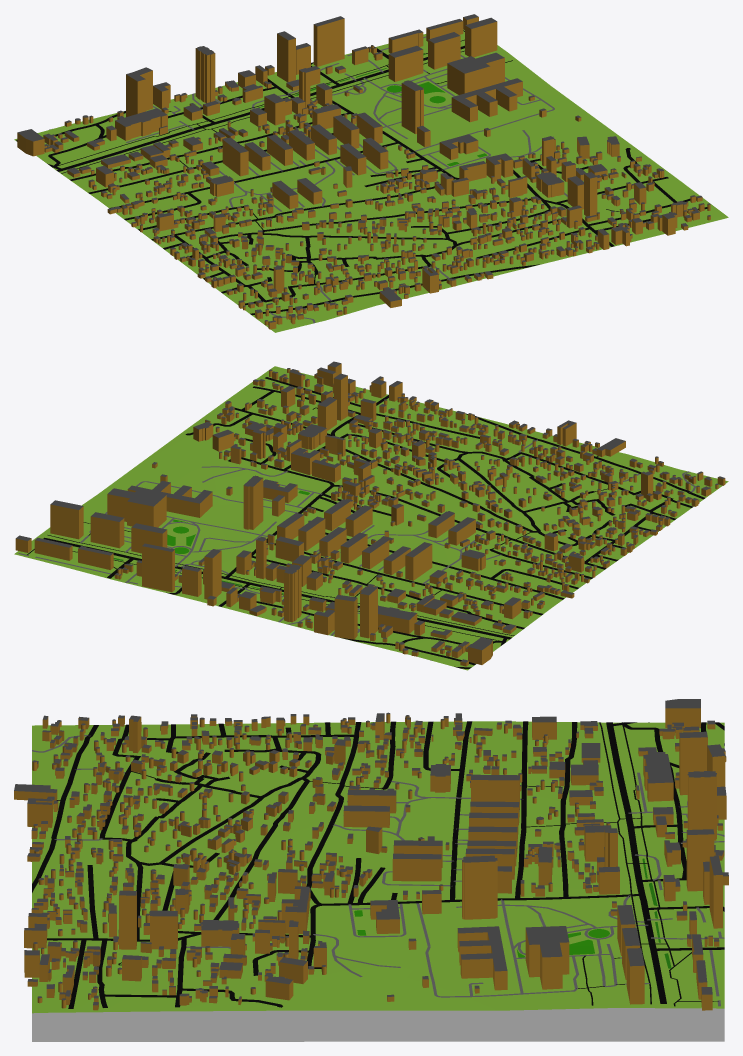
The model's file is tile_11_03.glb.
The picture shows the model from 3 angles, top to bottom: view 1: azimuth 30°, elevation 25°; view 2: azimuth 150°, elevation 25°; view 3: azimuth 270°, elevation 25°; orthographic projection. The views are drawn at different scales.
Visible parts, largest first — view 1: Ub_small.osm_buildings_11_03, Terrain_11_03, Ub_small.osm_roads_residential_11_03, Ub_small.osm_roads_service_11_03, Ub_small.osm_roads_trunk_11_03, Ub_small.osm_paths_footway_11_03; view 2: Ub_small.osm_buildings_11_03, Terrain_11_03, Ub_small.osm_roads_residential_11_03, Ub_small.osm_roads_service_11_03, Ub_small.osm_roads_trunk_11_03, Ub_small.osm_paths_footway_11_03; view 3: Terrain_11_03, Ub_small.osm_buildings_11_03, Ub_small.osm_roads_residential_11_03, Ub_small.osm_roads_service_11_03, Ub_small.osm_roads_trunk_11_03, Ub_small.osm_paths_footway_11_03, Ub_small.osm_vegetation_11_03.
Boxes of the visible parts, x1,y1,x2,y2 form: Ub_small.osm_buildings_11_03: (17, 14, 710, 329); Terrain_11_03: (14, 29, 728, 332); Ub_small.osm_roads_residential_11_03: (48, 62, 707, 315); Ub_small.osm_roads_service_11_03: (42, 36, 567, 323); Ub_small.osm_roads_trunk_11_03: (56, 45, 464, 171); Ub_small.osm_paths_footway_11_03: (52, 30, 619, 284); Ub_small.osm_buildings_11_03: (15, 361, 725, 666); Terrain_11_03: (14, 366, 728, 670); Ub_small.osm_roads_residential_11_03: (166, 377, 704, 665); Ub_small.osm_roads_service_11_03: (18, 439, 695, 635); Ub_small.osm_roads_trunk_11_03: (43, 537, 511, 639); Ub_small.osm_paths_footway_11_03: (27, 407, 607, 642); Terrain_11_03: (32, 721, 724, 1041); Ub_small.osm_buildings_11_03: (14, 699, 728, 1010); Ub_small.osm_roads_residential_11_03: (32, 721, 724, 1008); Ub_small.osm_roads_service_11_03: (32, 722, 724, 1006); Ub_small.osm_roads_trunk_11_03: (606, 722, 666, 1003); Ub_small.osm_paths_footway_11_03: (56, 722, 718, 1006); Ub_small.osm_vegetation_11_03: (354, 910, 609, 957).
Size of the model in its own units: 950 by 137 by 960.
